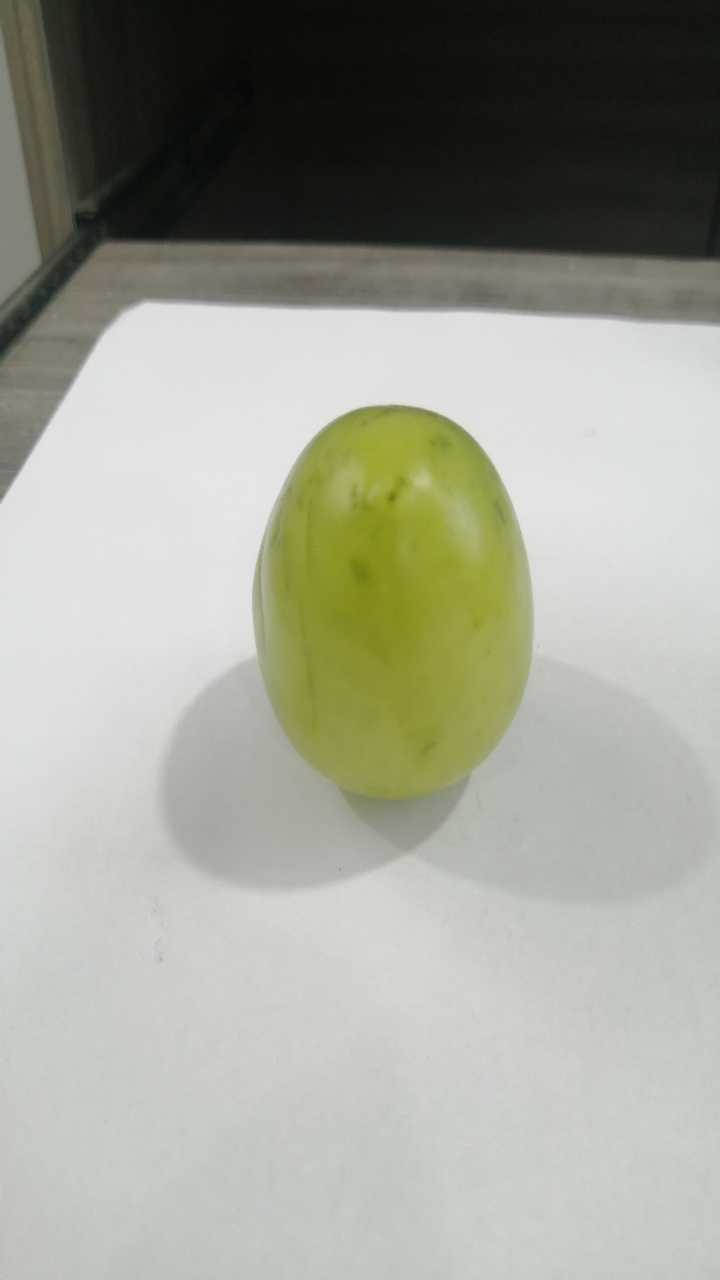tomateVerde: (234, 385, 557, 826)
